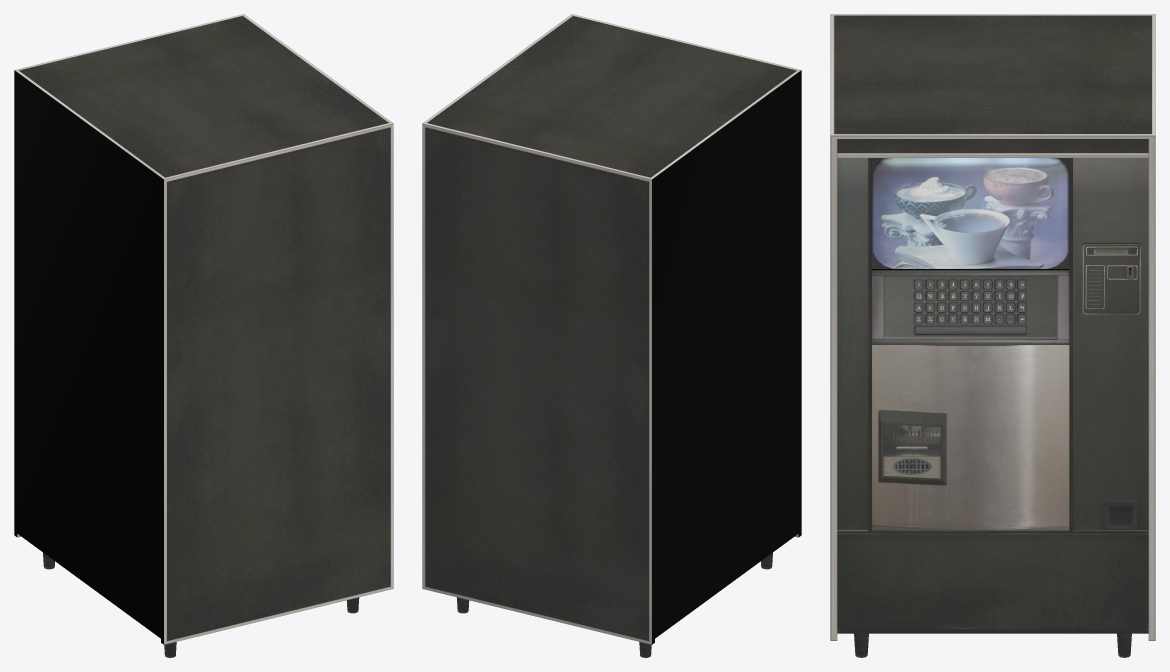
The model's file is scp294.gltf.
3 views of the same model, side by side, from view 1: azimuth 30°, elevation 25°; view 2: azimuth 150°, elevation 25°; view 3: azimuth 270°, elevation 25° (orthographic). The views are drawn at different scales.
Parts seen in each view (by area): view 1: 294; view 2: 294; view 3: 294, 294_screen, 294_space.
Boxes of the visible parts, x1=… form: 294: x1=14, y1=14, x2=393, y2=657; 294: x1=422, y1=14, x2=801, y2=657; 294: x1=830, y1=14, x2=1155, y2=657; 294_screen: x1=872, y1=158, x2=1069, y2=268; 294_space: x1=914, y1=326, x2=1026, y2=334.
Size of the model in its own units: 0.5497 by 1.12 by 0.6206.
4 materials, 2 textured.
